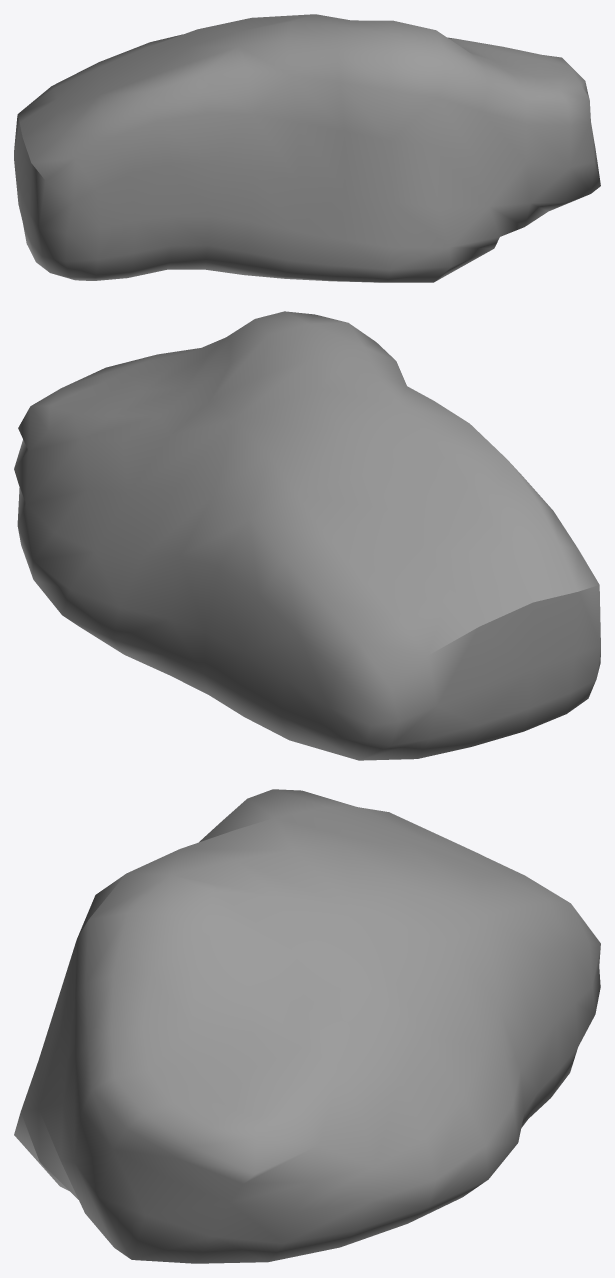
Rendered from Batu9.fbx.
The picture shows the model from 3 angles, top to bottom: view 1: azimuth 30°, elevation 25°; view 2: azimuth 150°, elevation 25°; view 3: azimuth 270°, elevation 25°; orthographic projection. The views are drawn at different scales.
Parts seen in each view (by area): view 1: Retopo_SM_Rocks_03.002; view 2: Retopo_SM_Rocks_03.002; view 3: Retopo_SM_Rocks_03.002.
Part boxes in pixels (bbox=[...]): Retopo_SM_Rocks_03.002: bbox=[14, 14, 600, 282]; Retopo_SM_Rocks_03.002: bbox=[14, 311, 600, 760]; Retopo_SM_Rocks_03.002: bbox=[14, 789, 600, 1263].
Bounding box in the file's own units: 142 × 57.64 × 104.
